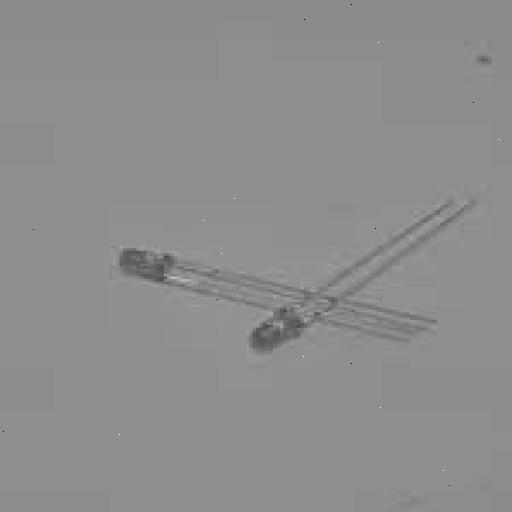LED: (231, 269, 459, 411), (86, 197, 258, 314)
